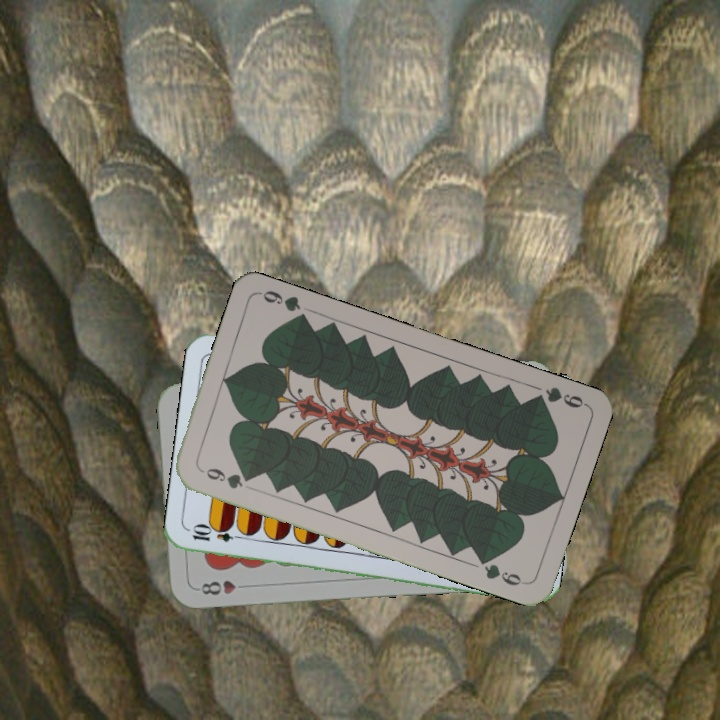E10: (188, 524, 247, 545)
G9: (527, 383, 588, 411), (196, 464, 255, 492)
H8: (197, 576, 252, 597)
